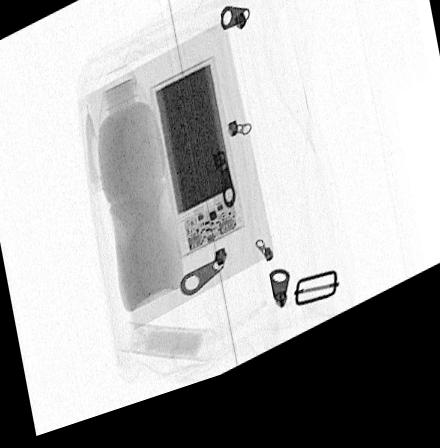Powerbank: (145, 68, 246, 272)
